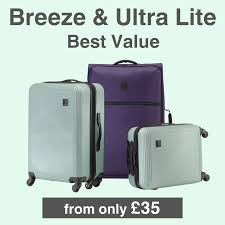suitcase: (86, 61, 167, 179), (28, 78, 106, 188), (126, 122, 211, 190)
